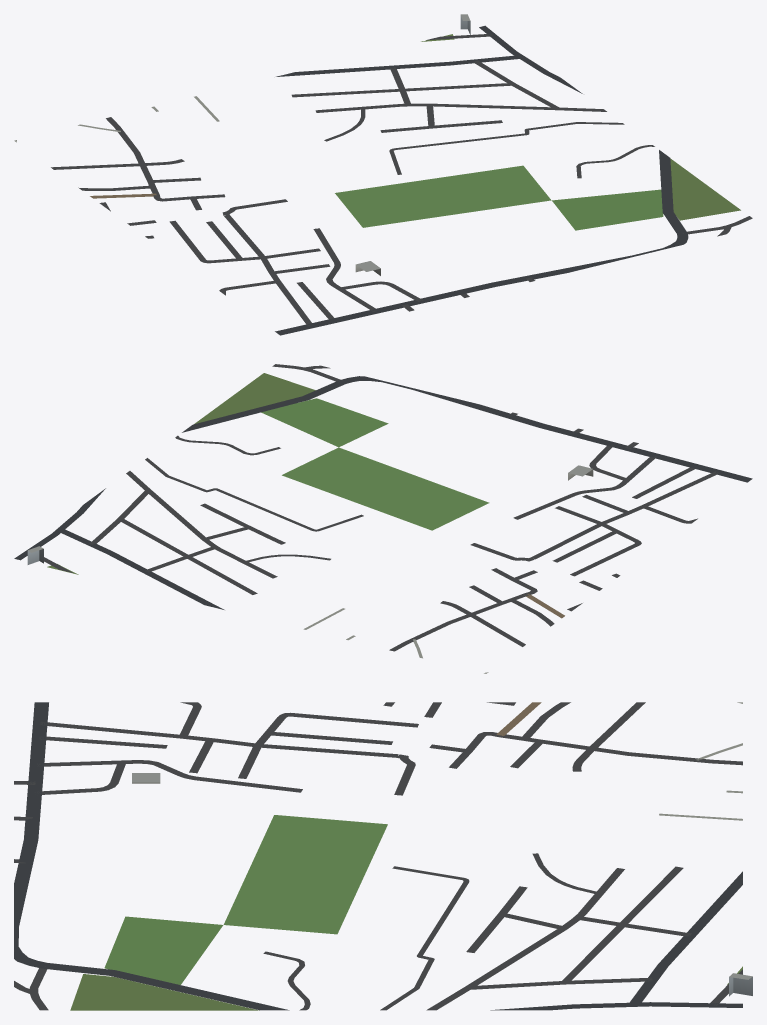
3 renders of one model, top to bottom at view 1: azimuth 30°, elevation 25°; view 2: azimuth 150°, elevation 25°; view 3: azimuth 270°, elevation 25°, orthographic. The views are drawn at different scales.
Visible parts, largest first — view 1: ground; view 2: ground; view 3: ground, building.
Part boxes in pixels (<box>): ground: <box>14,25,752,335</box>; ground: <box>14,364,752,673</box>; ground: <box>14,702,742,1010</box>; building: <box>132,773,752,996</box>.
Bounding box in the file's own units: 500 × 15 × 507.
